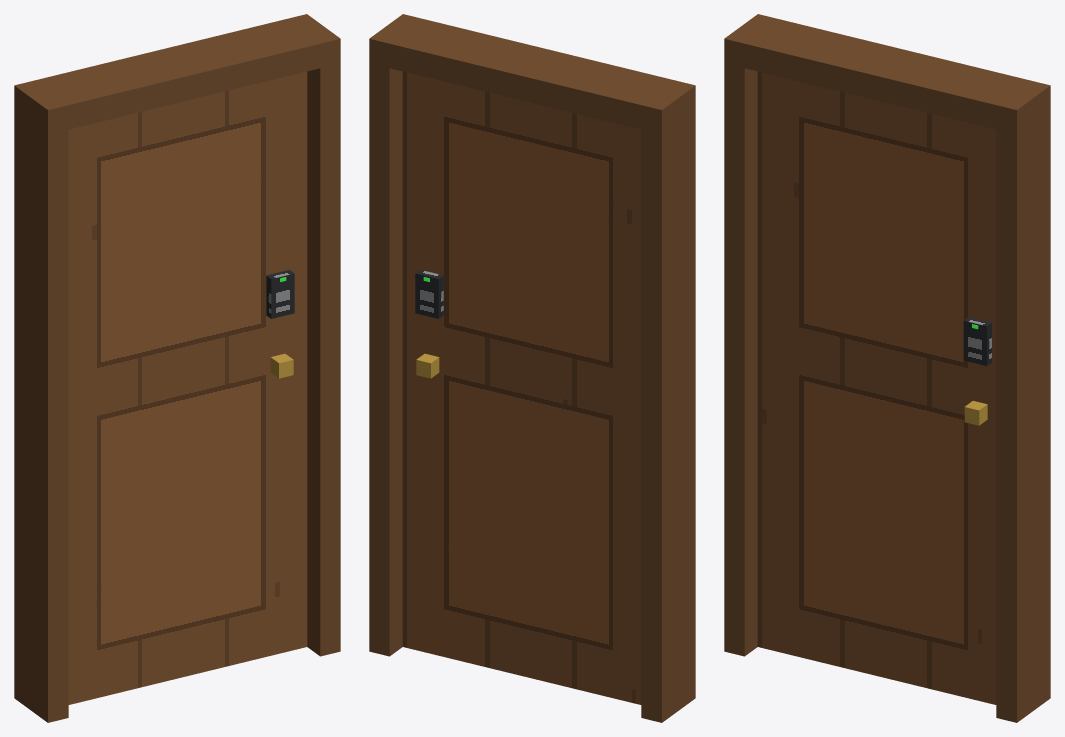
The model's file is t_door_elocked.glb.
3 renders of one model, left to right at view 1: azimuth 30°, elevation 25°; view 2: azimuth 150°, elevation 25°; view 3: azimuth 330°, elevation 25°, orthographic.
Visible parts, largest first — view 1: block_panel, block_jamb-1, block_jamb1, block_head, block_keypad1; view 2: block_panel, block_jamb-1, block_jamb1, block_head, block_keypad-1; view 3: block_panel, block_jamb1, block_jamb-1, block_head, block_keypad1.
Boxes of the visible parts, x1,y1,x2,y2 form: block_panel: [68, 71, 307, 704]; block_jamb-1: [14, 80, 68, 722]; block_jamb1: [287, 14, 340, 656]; block_head: [35, 19, 320, 129]; block_keypad1: [266, 270, 294, 318]; block_panel: [402, 71, 641, 704]; block_jamb-1: [641, 80, 695, 722]; block_jamb1: [369, 14, 422, 656]; block_head: [389, 19, 674, 129]; block_keypad-1: [415, 270, 443, 318]; block_panel: [757, 71, 996, 704]; block_jamb1: [996, 80, 1050, 722]; block_jamb-1: [724, 14, 777, 656]; block_head: [744, 19, 1029, 129]; block_keypad1: [963, 317, 991, 365].
Size of the model in its own units: 1 by 2 by 0.2.
Materials: 3 (3 with a texture image).
